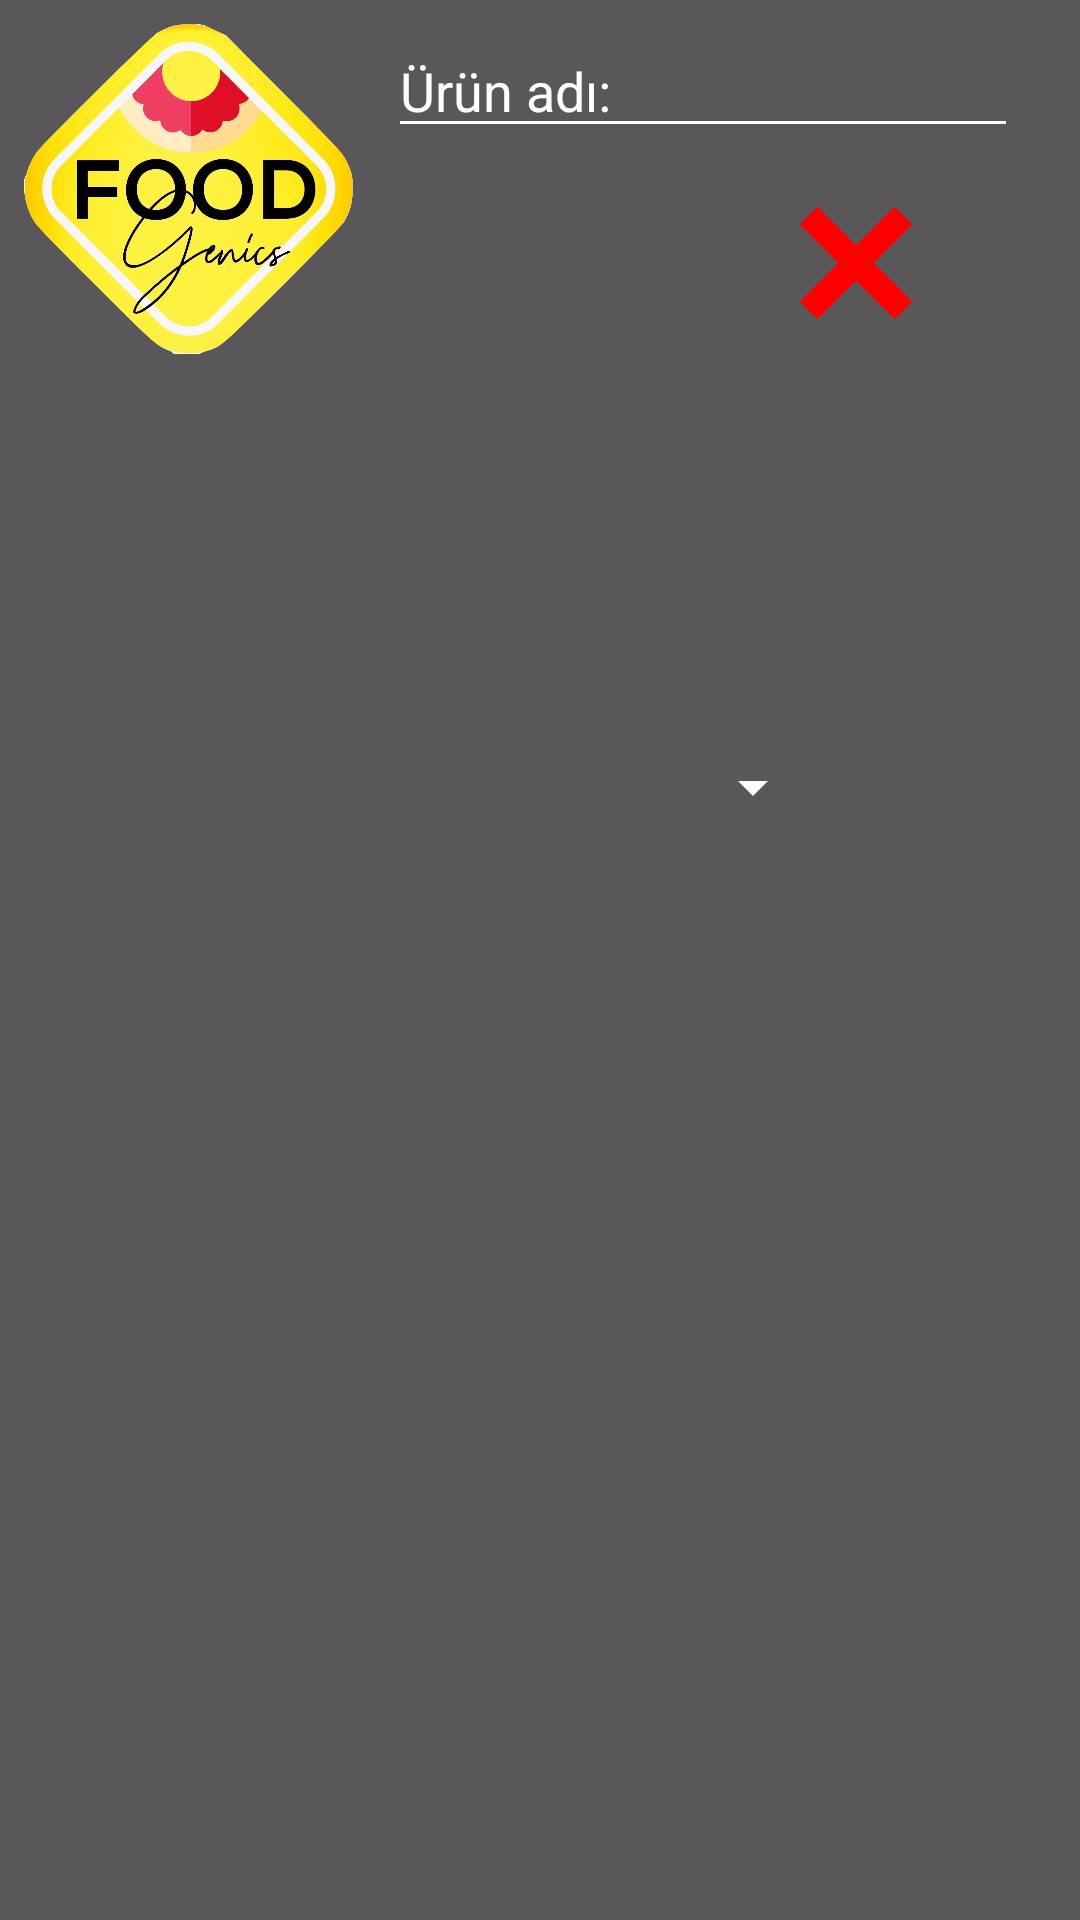

Icon bounding boxes for this 1080 × 1920 phone screenshot, format (x1, y1, x2, y2):
wrong: (800, 207, 912, 319)
